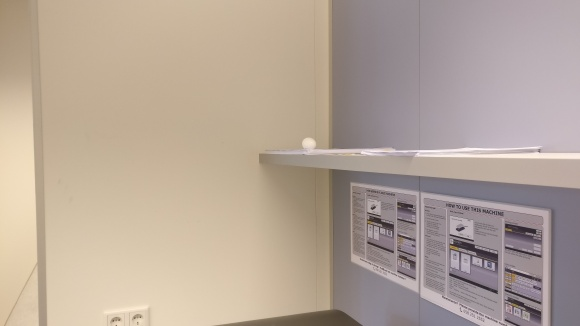egg: (301, 137, 317, 150)
